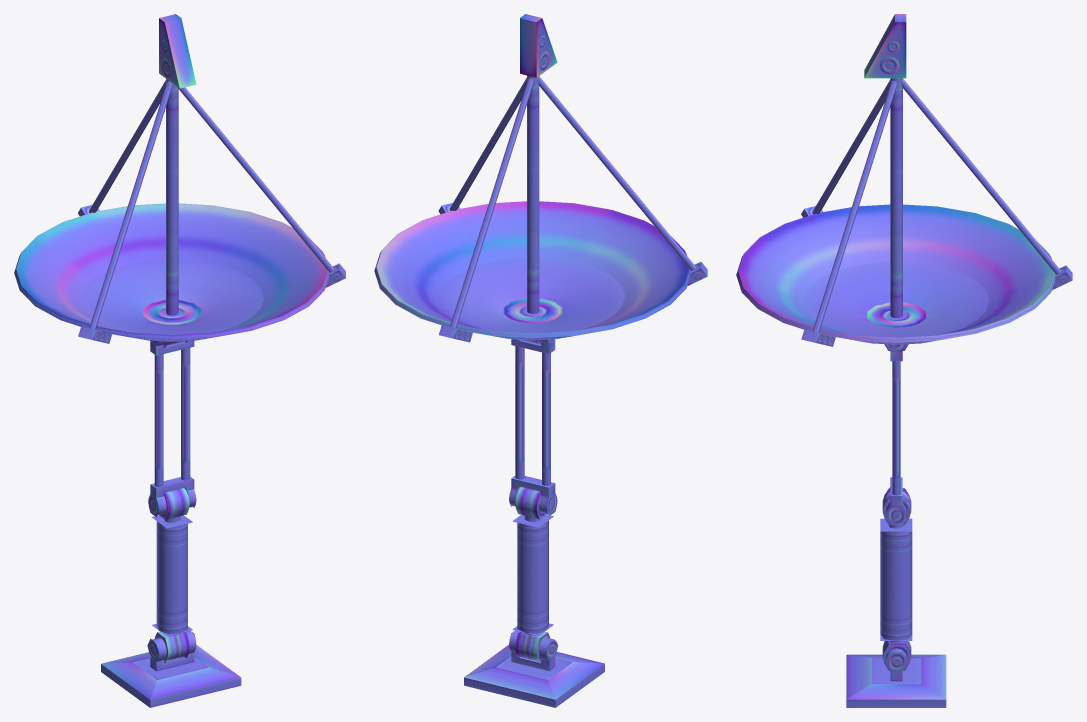
The model's file is Satellite dish_Blender Internal render.obj.
3 views of the same model, side by side, from view 1: azimuth 30°, elevation 25°; view 2: azimuth 150°, elevation 25°; view 3: azimuth 270°, elevation 25° (orthographic).
Visible parts, largest first — view 1: Circle.003_Circle.008; view 2: Circle.003_Circle.008; view 3: Circle.003_Circle.008.
Part boxes in pixels (box(x1,y1,x2,y2)): Circle.003_Circle.008: box(14, 14, 345, 707); Circle.003_Circle.008: box(374, 14, 707, 707); Circle.003_Circle.008: box(736, 14, 1072, 707).
Size of the model in its own units: 1.99 by 4.57 by 2.09.
